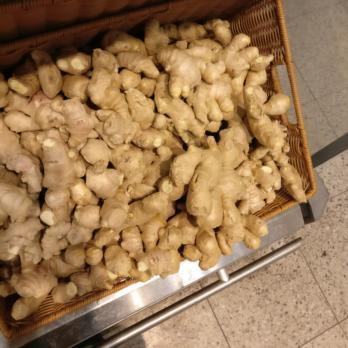Ginger: (142, 16, 285, 247), (77, 49, 213, 265), (0, 61, 91, 315)
